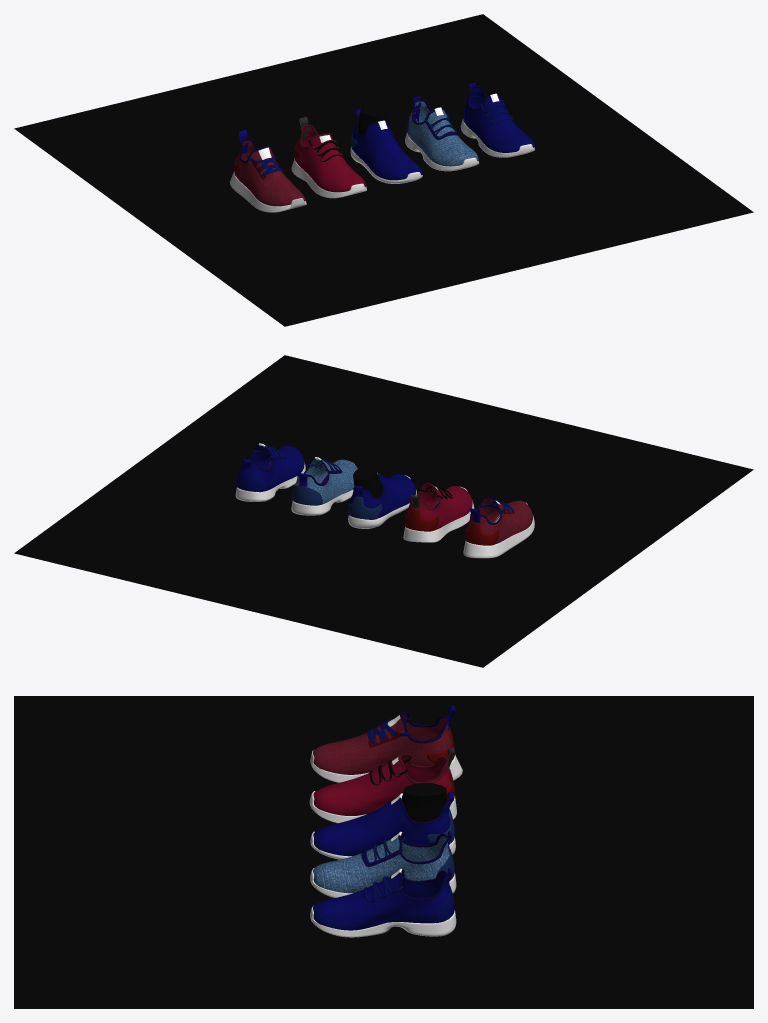
The model's file is sneakers.glb.
The picture shows the model from 3 angles, top to bottom: view 1: azimuth 30°, elevation 25°; view 2: azimuth 150°, elevation 25°; view 3: azimuth 270°, elevation 25°; orthographic projection. The views are drawn at different scales.
Visible parts, largest first — view 1: floor_14, base.016_23, base.017_30, base.018_40, base.015_9, base.019_50, sole_thick.002_21, foot_2_12, sole_thick.006_38, sole_thick.007_48, sole_thick.001_6; view 2: floor_14, base.016_23, base.015_9, base.019_50, base.018_40, base.017_30, sole_thick.001_6, sole_thick.002_21, foot_2_12, sole_thick.007_48, sole_thick.006_38, Backplate.002_0; view 3: floor_14, base.019_50, base.015_9, base.018_40, base.017_30, base.016_23, foot_2_12, sole_thick.007_48.
Boxes of the visible parts, <box> form: floor_14: <box>14,14,753,326</box>; base.016_23: <box>296,127,365,192</box>; base.017_30: <box>352,117,422,180</box>; base.018_40: <box>408,101,478,166</box>; base.015_9: <box>235,140,305,206</box>; base.019_50: <box>464,87,532,150</box>; sole_thick.002_21: <box>291,158,366,198</box>; foot_2_12: <box>357,104,386,134</box>; sole_thick.006_38: <box>405,132,479,171</box>; sole_thick.007_48: <box>460,118,534,157</box>; sole_thick.001_6: <box>230,171,306,211</box>; floor_14: <box>14,355,753,667</box>; base.016_23: <box>406,484,472,530</box>; base.015_9: <box>466,498,532,544</box>; base.019_50: <box>239,445,301,490</box>; base.018_40: <box>294,459,357,504</box>; base.017_30: <box>349,474,415,518</box>; sole_thick.001_6: <box>463,515,534,556</box>; sole_thick.002_21: <box>403,486,474,542</box>; foot_2_12: <box>353,467,382,497</box>; sole_thick.007_48: <box>235,463,305,501</box>; sole_thick.006_38: <box>291,463,354,515</box>; Backplate.002_0: <box>465,522,499,545</box>; floor_14: <box>14,696,753,1008</box>; base.019_50: <box>315,873,449,929</box>; base.015_9: <box>313,714,450,774</box>; base.018_40: <box>313,836,449,893</box>; base.017_30: <box>313,800,450,856</box>; base.016_23: <box>313,756,450,815</box>; foot_2_12: <box>401,783,446,822</box>; sole_thick.007_48: <box>310,905,456,937</box>.
Size of the model in its own units: 1.23 by 0.128 by 1.23.
Materials: 25 (5 with a texture image).
